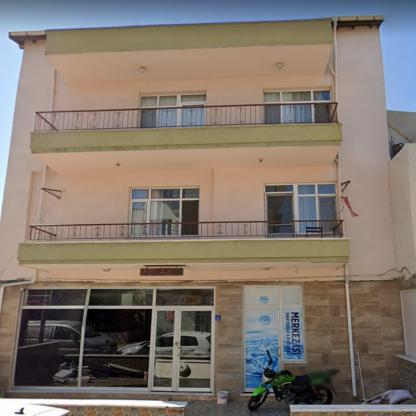door: (149, 308, 214, 392), (242, 308, 283, 392), (267, 195, 294, 238)
window: (10, 287, 214, 393), (242, 285, 308, 361), (266, 184, 336, 234), (128, 187, 199, 236), (138, 94, 206, 126), (264, 90, 330, 122)
